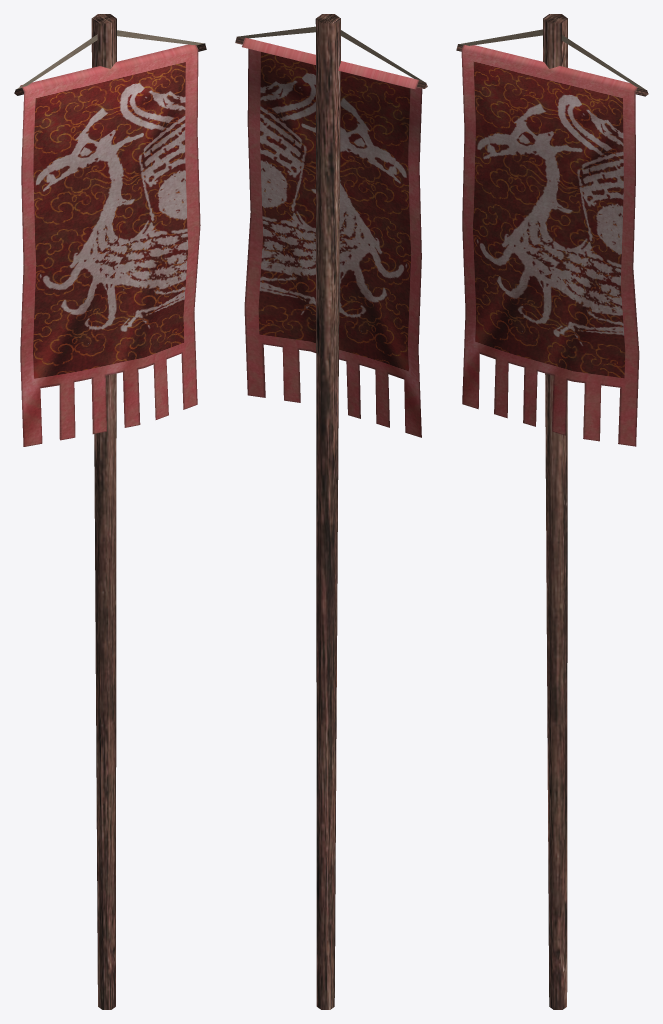
Rendered from flag_old.fbx.
The picture shows the model from 3 angles, left to right: view 1: azimuth 30°, elevation 25°; view 2: azimuth 150°, elevation 25°; view 3: azimuth 330°, elevation 25°; orthographic projection.
Visible parts, largest first — view 1: Spher; view 2: Spher; view 3: Spher.
Boxes of the visible parts, left/top/right/bottom form: Spher: left=14, top=14, right=206, bottom=1009; Spher: left=235, top=14, right=427, bottom=1009; Spher: left=456, top=14, right=648, bottom=1009.
Size of the model in its own units: 301 by 1503 by 52.53.
